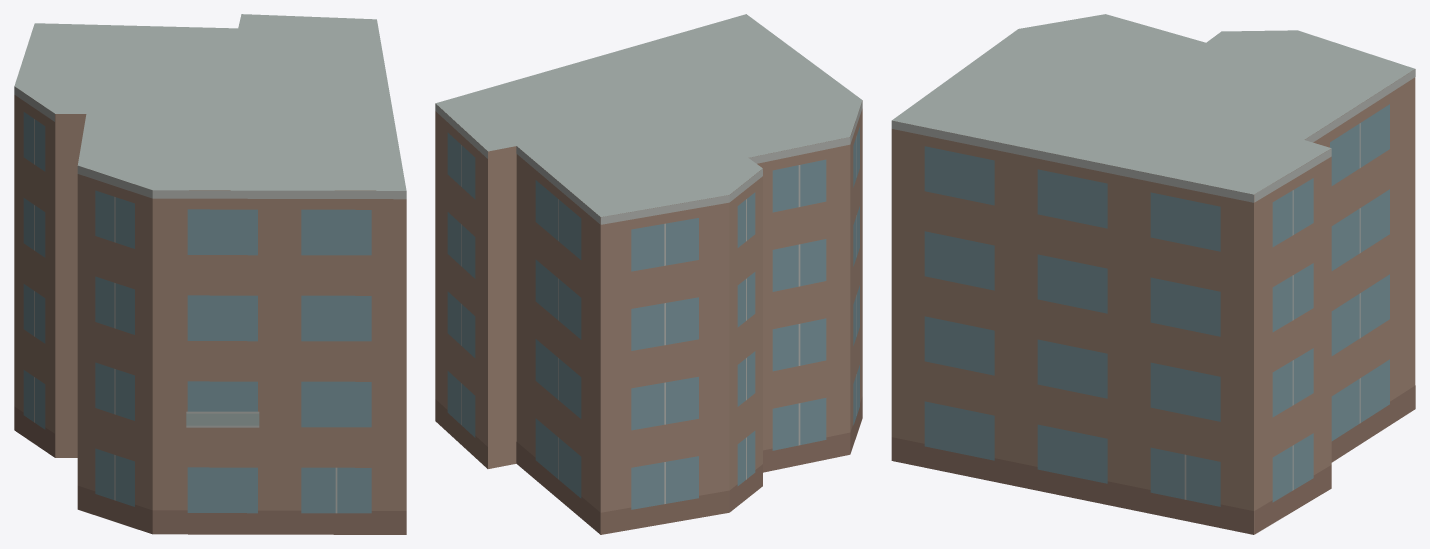
File: survey-upis-32783510.glb
The picture shows the model from 3 angles, left to right: view 1: azimuth 30°, elevation 25°; view 2: azimuth 150°, elevation 25°; view 3: azimuth 270°, elevation 25°; orthographic projection. The views are drawn at different scales.
Parts seen in each view (by area): view 1: survey-upis-32783510.tmp; view 2: survey-upis-32783510.tmp; view 3: survey-upis-32783510.tmp.
Part boxes in pixels (bbox=[...]): survey-upis-32783510.tmp: bbox=[14, 14, 406, 534]; survey-upis-32783510.tmp: bbox=[435, 14, 862, 534]; survey-upis-32783510.tmp: bbox=[891, 14, 1415, 534].
Size of the model in its own units: 11.47 by 10.07 by 14.06.
